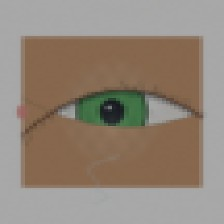foreign_body_visible: (57, 113, 96, 145)
